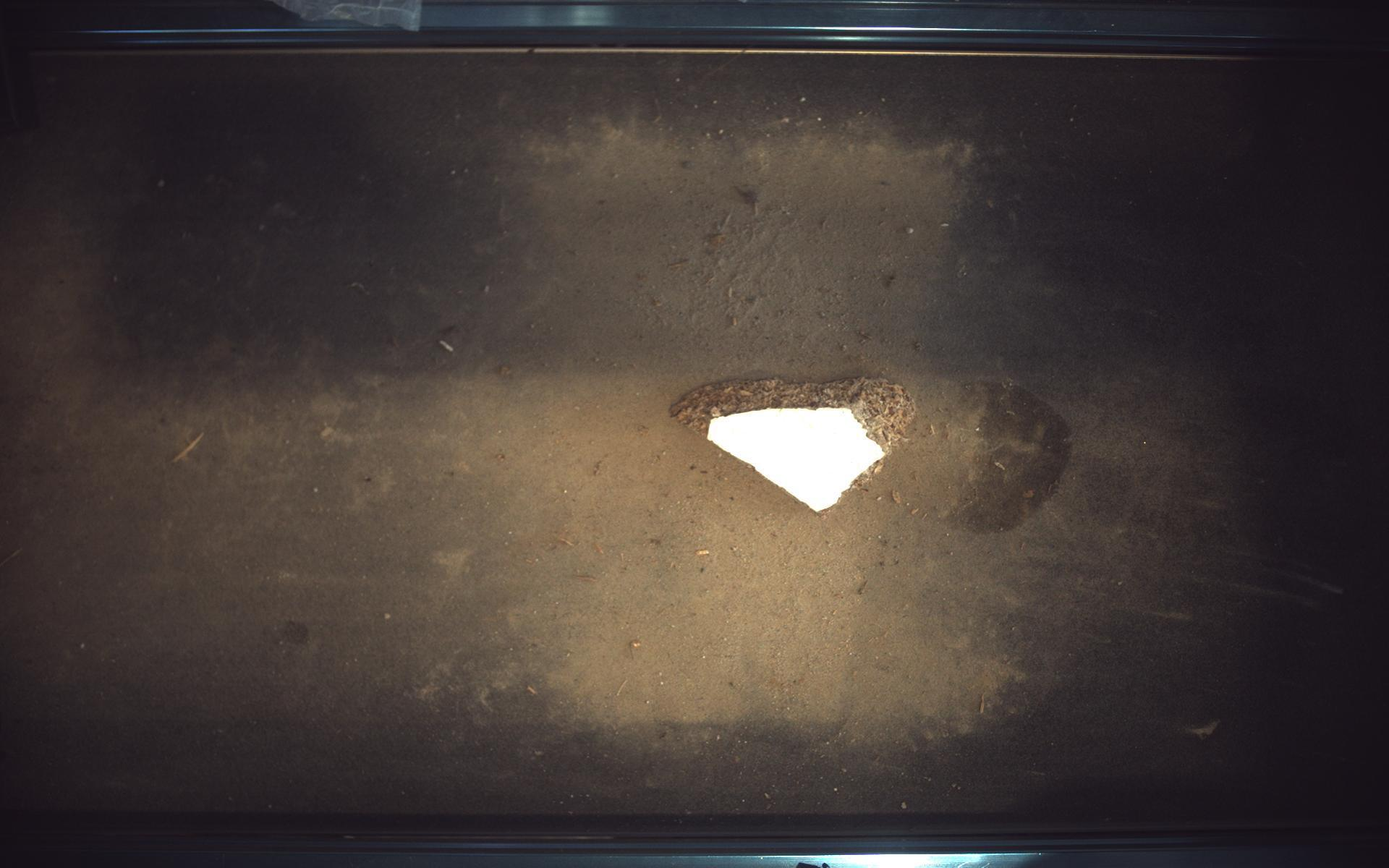wood: (672, 378, 917, 512)
